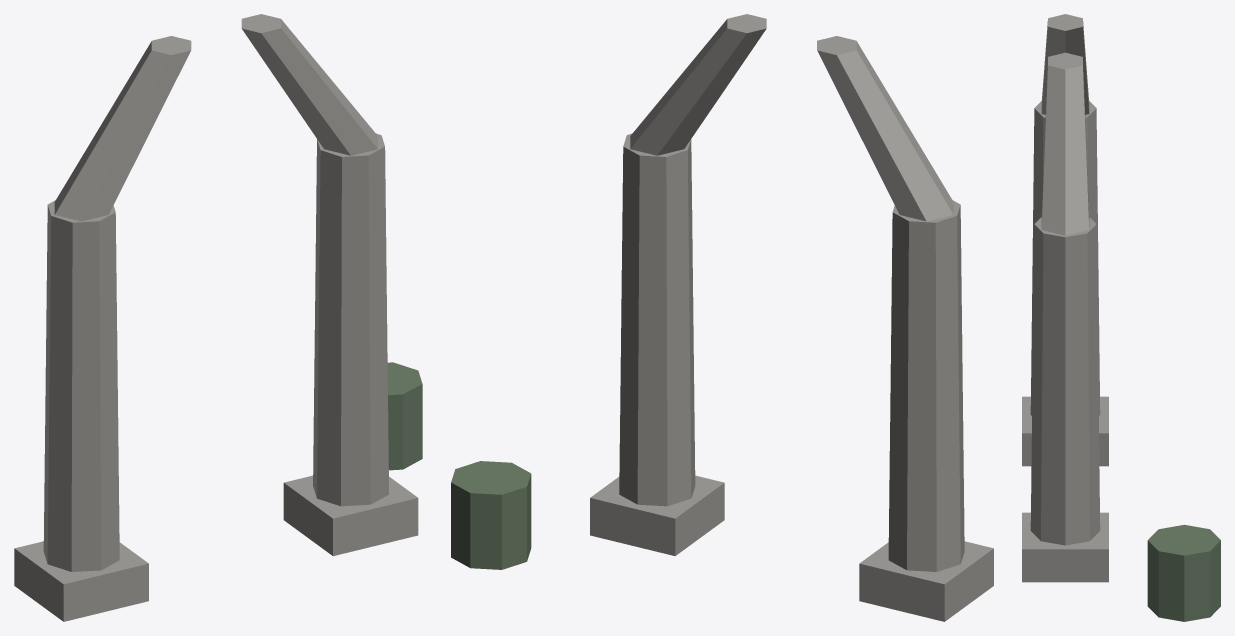
Rendered from abbey_arch.glb.
The picture shows the model from 3 angles, left to right: view 1: azimuth 30°, elevation 25°; view 2: azimuth 150°, elevation 25°; view 3: azimuth 270°, elevation 25°; orthographic projection. The views are drawn at different scales.
Visible parts, largest first — view 1: abbey_arch; view 2: abbey_arch; view 3: abbey_arch.
Boxes of the visible parts, bbox=[...] form: abbey_arch: bbox=[14, 14, 422, 621]; abbey_arch: bbox=[451, 14, 993, 621]; abbey_arch: bbox=[1022, 14, 1220, 621].
Bounding box in the file's own units: 4.98 × 5.6 × 2.18.
